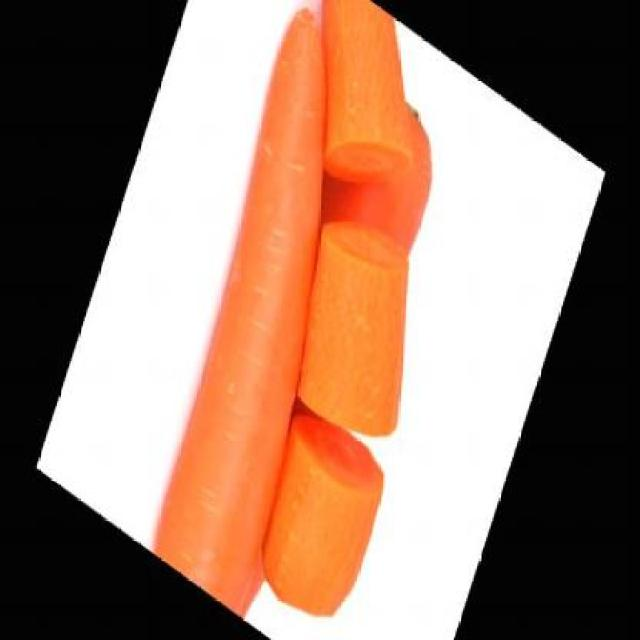carrot: (124, 1, 413, 616), (192, 70, 451, 638), (272, 195, 443, 460), (273, 0, 450, 226), (240, 397, 392, 638)
